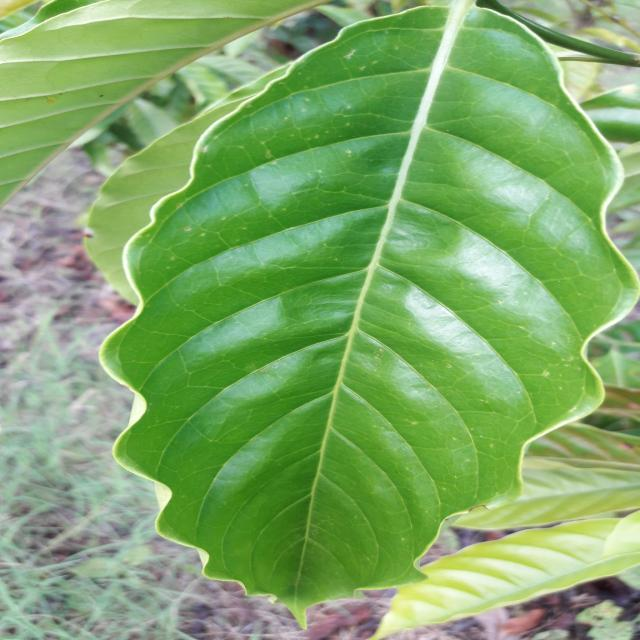Sanas: (99, 0, 639, 625)
